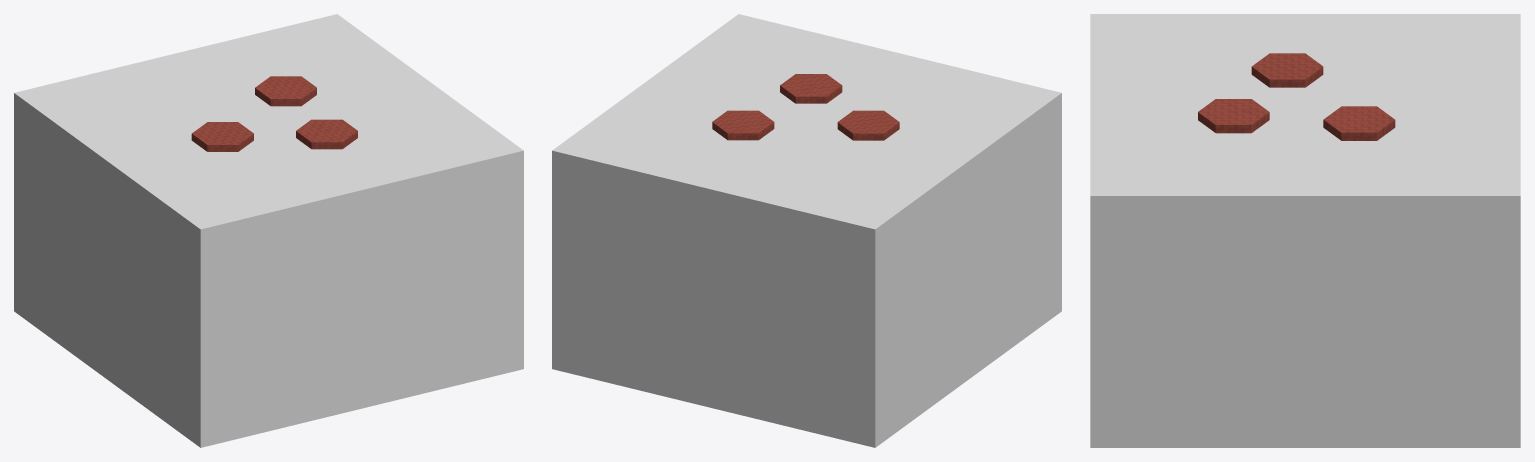
Rendered from basket.glb.
The picture shows the model from 3 angles, left to right: view 1: azimuth 30°, elevation 25°; view 2: azimuth 150°, elevation 25°; view 3: azimuth 270°, elevation 25°; orthographic projection. The views are drawn at different scales.
Parts seen in each view (by area): view 1: COL_HULL_basket, basket; view 2: COL_HULL_basket, basket; view 3: COL_HULL_basket, basket.
Boxes of the visible parts, box(x1,y1,x2,y2) form: COL_HULL_basket: box(14, 14, 523, 447); basket: box(191, 76, 357, 151); COL_HULL_basket: box(552, 14, 1061, 447); basket: box(712, 74, 899, 140); COL_HULL_basket: box(1090, 14, 1520, 447); basket: box(1198, 53, 1395, 140).
Size of what is drawn, in the model's own units: 0.48 by 0.32 by 0.48.
2 materials, 2 textured.
